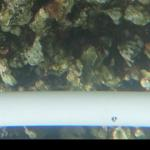dead: (1, 1, 149, 137)
